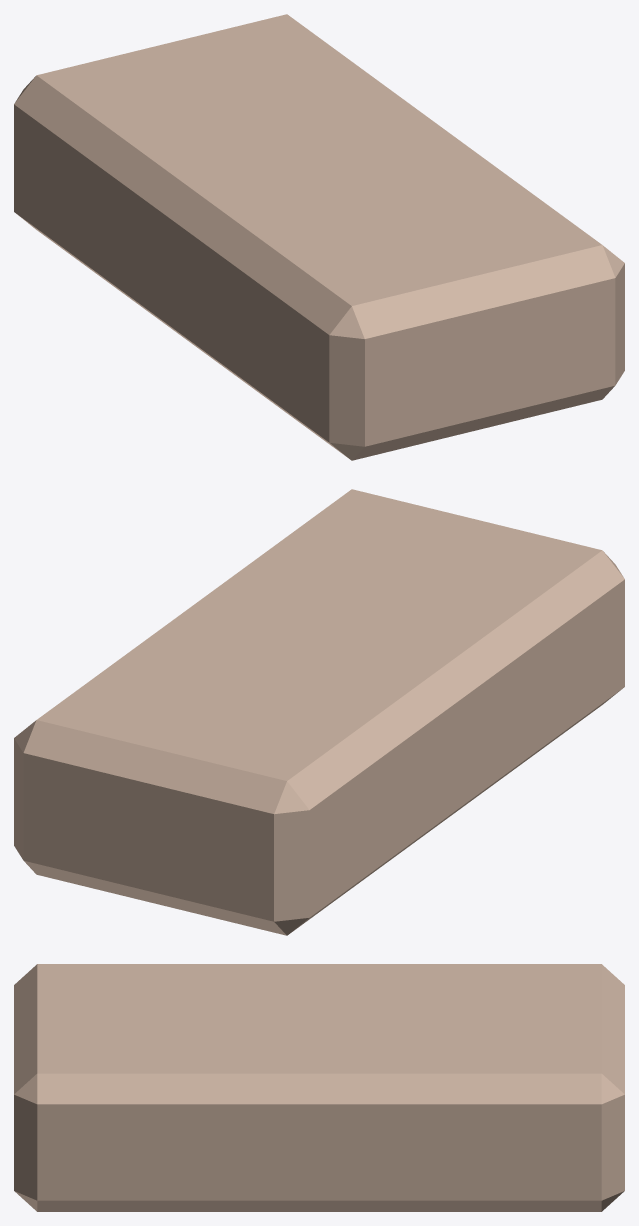
Rendered from LoneBrick.fbx.
3 renders of one model, top to bottom at view 1: azimuth 30°, elevation 25°; view 2: azimuth 150°, elevation 25°; view 3: azimuth 270°, elevation 25°, orthographic. The views are drawn at different scales.
Visible parts, largest first — view 1: LoneBrick; view 2: LoneBrick; view 3: LoneBrick.
Boxes of the visible parts, <box> form: LoneBrick: <box>14,14,624,460</box>; LoneBrick: <box>14,489,624,935</box>; LoneBrick: <box>14,964,624,1211</box>.
Size of the model in its own units: 8 by 16 by 4.
